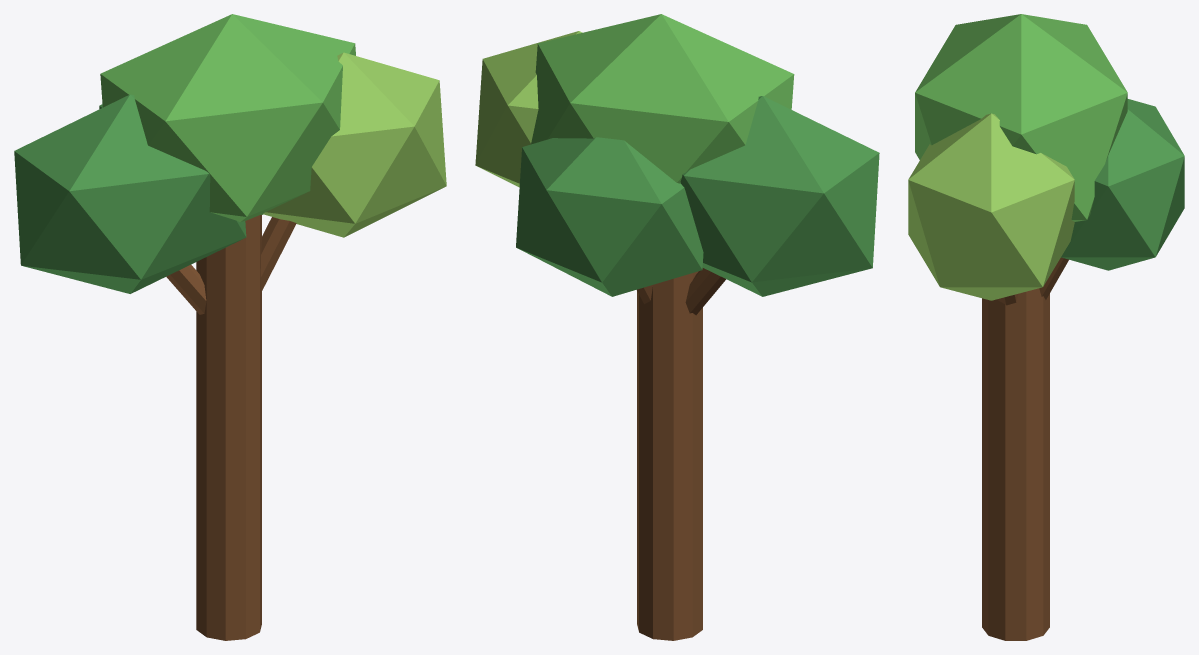
File: summer_tree_variant.glb
The picture shows the model from 3 angles, left to right: view 1: azimuth 30°, elevation 25°; view 2: azimuth 150°, elevation 25°; view 3: azimuth 270°, elevation 25°; orthographic projection.
Visible parts, largest first — view 1: CanopyCenter, CanopyLeft, TreeTrunk, CanopyRight, TreeBranch_1, TreeBranch_0; view 2: CanopyCenter, CanopyLeft, TreeTrunk, CanopyBack, CanopyRight, TreeBranch_0; view 3: CanopyCenter, TreeTrunk, CanopyRight, CanopyBack, TreeBranch_2.
Boxes of the visible parts, box(x1,y1,x2,y2) form: CanopyCenter: box(100, 14, 355, 222); CanopyLeft: box(14, 94, 246, 293); TreeTrunk: box(196, 215, 261, 640); CanopyRight: box(263, 52, 446, 237); TreeBranch_1: box(260, 217, 296, 292); TreeBranch_0: box(166, 264, 206, 314); CanopyCenter: box(531, 14, 794, 183); CanopyLeft: box(680, 96, 879, 296); TreeTrunk: box(637, 271, 702, 640); CanopyBack: box(516, 137, 703, 296); CanopyRight: box(475, 31, 582, 187); TreeBranch_0: box(685, 268, 726, 315); CanopyCenter: box(915, 14, 1127, 221); TreeTrunk: box(982, 288, 1049, 640); CanopyRight: box(908, 113, 1074, 300); CanopyBack: box(1061, 99, 1184, 270); TreeBranch_2: box(1039, 257, 1068, 299).
Bounding box in the file's own units: 3.46 × 5 × 2.03.
